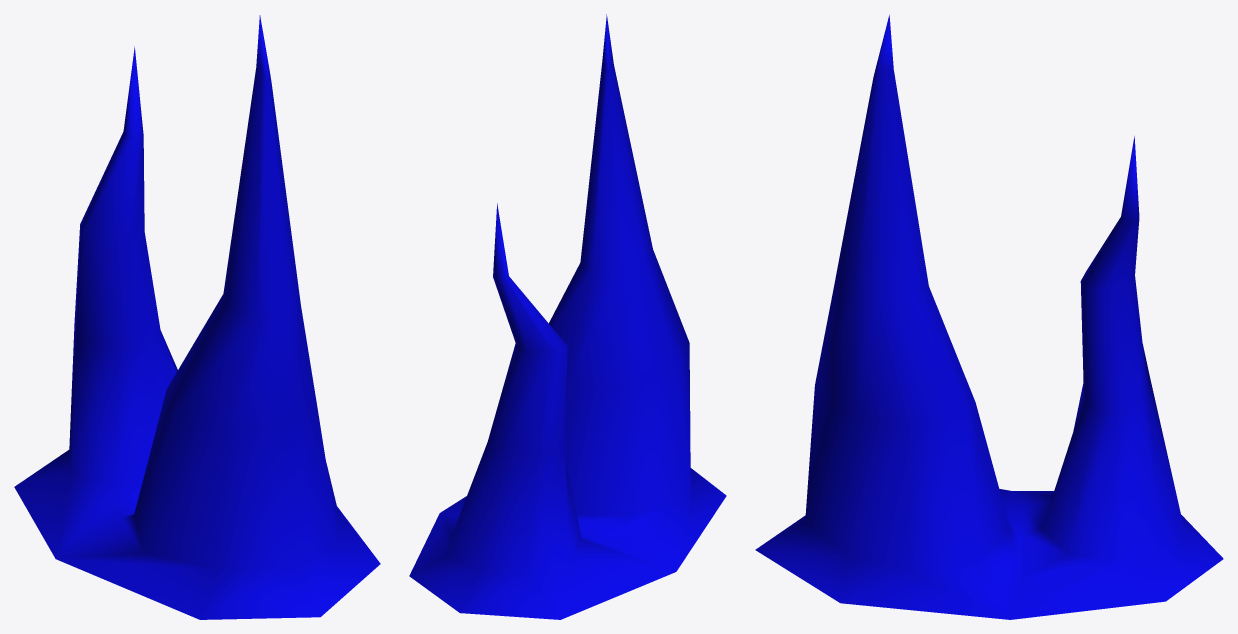
Rendered from Spike06_mesh.fbx.
The picture shows the model from 3 angles, left to right: view 1: azimuth 30°, elevation 25°; view 2: azimuth 150°, elevation 25°; view 3: azimuth 270°, elevation 25°; orthographic projection. The views are drawn at different scales.
Visible parts, largest first — view 1: Spike06_mesh; view 2: Spike06_mesh; view 3: Spike06_mesh.
Part boxes in pixels (left/top/right/bottom): Spike06_mesh: left=14, top=15, right=380, bottom=619; Spike06_mesh: left=409, top=14, right=726, bottom=619; Spike06_mesh: left=755, top=14, right=1223, bottom=619.
Bounding box in the file's own units: 1.08 × 2.14 × 1.66.
